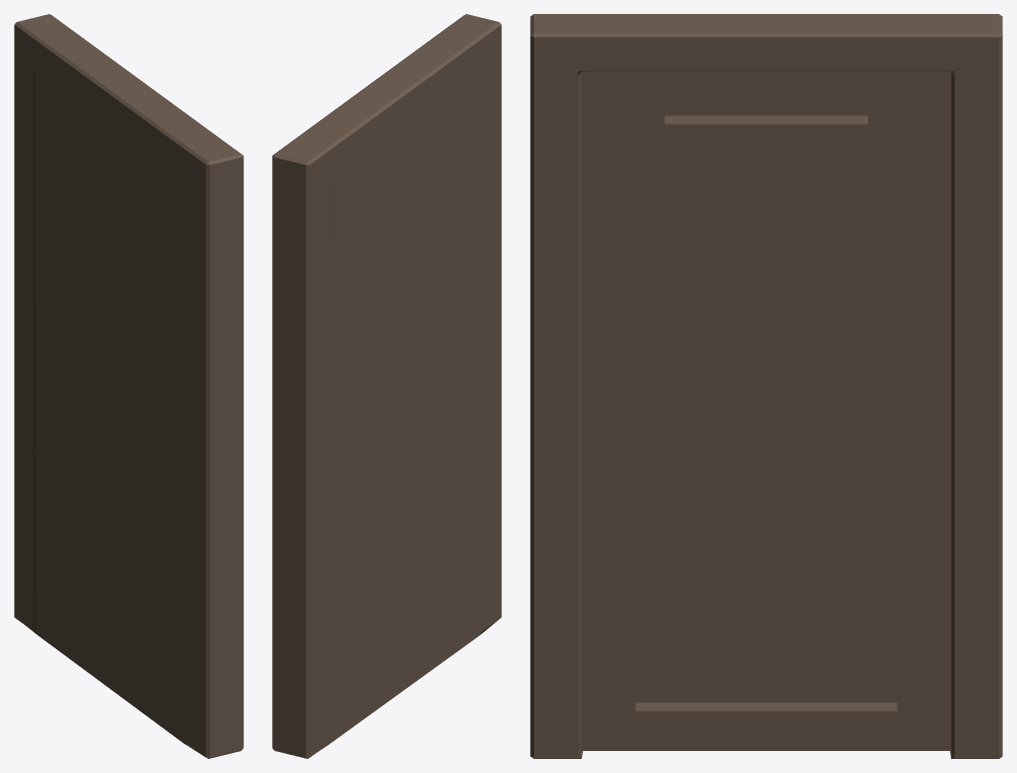
The model's file is Door.fbx.
The picture shows the model from 3 angles, left to right: view 1: azimuth 30°, elevation 25°; view 2: azimuth 150°, elevation 25°; view 3: azimuth 270°, elevation 25°; orthographic projection. The views are drawn at different scales.
Parts seen in each view (by area): view 1: Door; view 2: Door; view 3: Door.
Boxes of the visible parts, <box> form: Door: <box>14,14,243,758</box>; Door: <box>272,14,501,758</box>; Door: <box>530,14,1002,758</box>.
Bounding box in the file's own units: 13.73 × 208 × 123.
